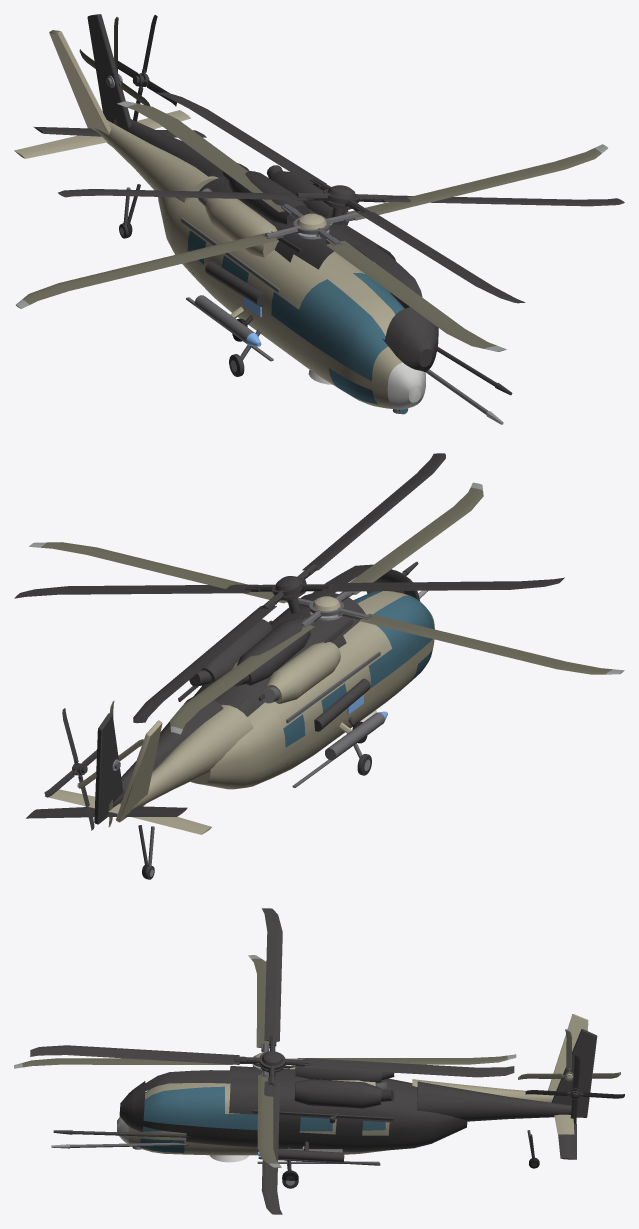
File: navalHelicopter__mh_60r_seahawk.glb
The picture shows the model from 3 angles, top to bottom: view 1: azimuth 30°, elevation 25°; view 2: azimuth 150°, elevation 25°; view 3: azimuth 270°, elevation 25°; orthographic projection. The views are drawn at different scales.
Parts seen in each view (by area): view 1: Fuselage_Mesh, Wreck, Rotor_Main_Mesh, Engines_Mesh, Naval_Mission_Kit_Mesh, Rotor_Tail_Mesh, Landing_Gear_Mesh; view 2: Wreck, Fuselage_Mesh, Rotor_Main_Mesh, Engines_Mesh, Naval_Mission_Kit_Mesh, Landing_Gear_Mesh; view 3: Wreck, Fuselage_Mesh, Rotor_Main_Mesh, Rotor_Tail_Mesh.
Part boxes in pixels (x1,y1,x2,y2): Fuselage_Mesh: (14, 30, 503, 424); Wreck: (33, 14, 624, 395); Rotor_Main_Mesh: (16, 101, 608, 351); Engines_Mesh: (198, 188, 278, 257); Naval_Mission_Kit_Mesh: (194, 295, 261, 346); Rotor_Tail_Mesh: (79, 17, 149, 125); Landing_Gear_Mesh: (119, 187, 260, 376); Wreck: (14, 453, 564, 877); Fuselage_Mesh: (44, 590, 434, 834); Rotor_Main_Mesh: (29, 482, 624, 734); Engines_Mesh: (232, 641, 340, 703); Naval_Mission_Kit_Mesh: (325, 711, 387, 760); Landing_Gear_Mesh: (144, 727, 371, 879); Wreck: (30, 908, 624, 1214); Fuselage_Mesh: (51, 1014, 588, 1163); Rotor_Main_Mesh: (14, 955, 516, 1167); Rotor_Tail_Mesh: (518, 1029, 620, 1081).
Size of what is drawn, in the model's own units: 16.77 by 6.2 by 19.9.
